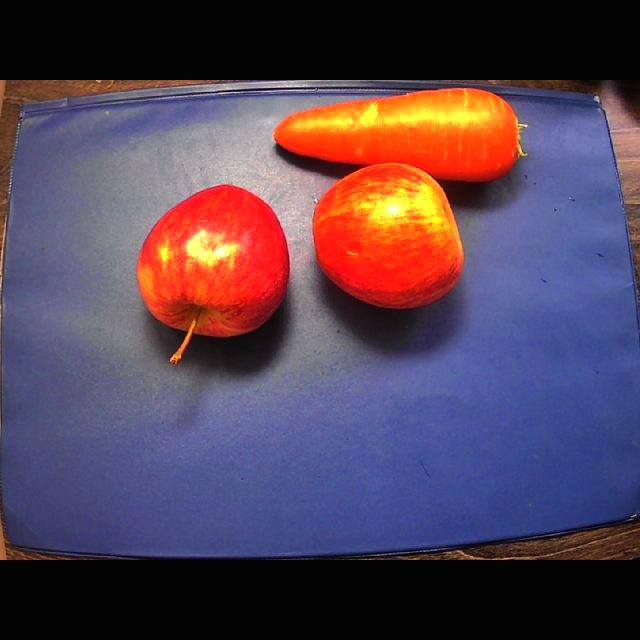manzana: (137, 185, 289, 363), (313, 163, 463, 308)
zanahoria: (275, 88, 525, 180)
